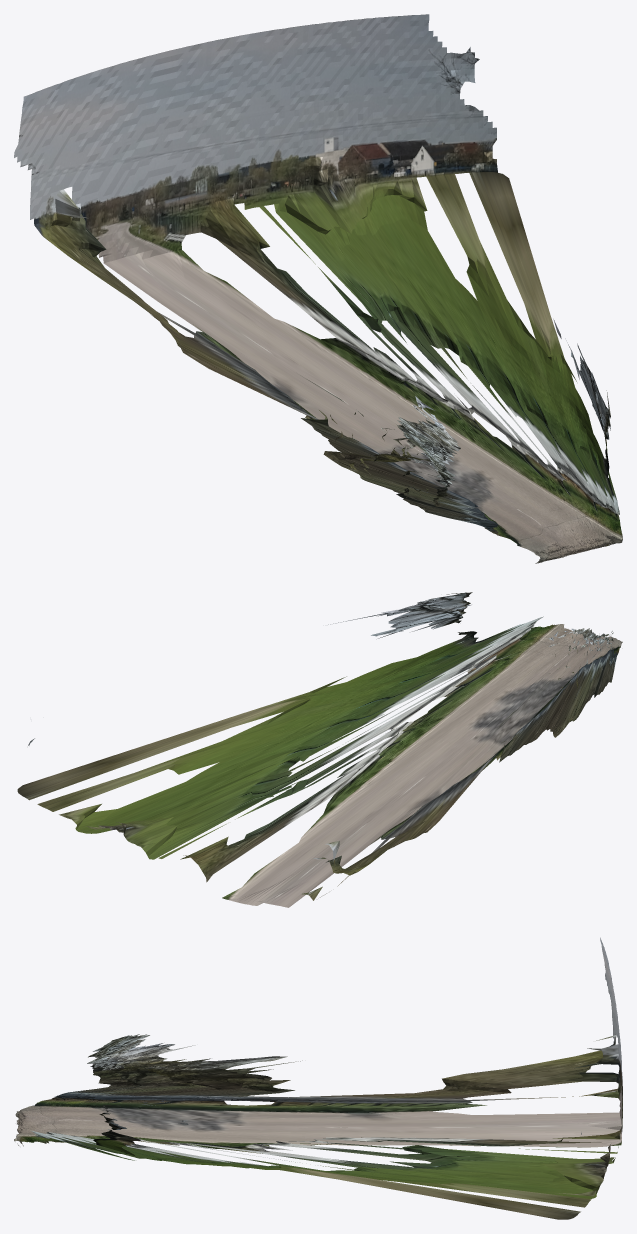
3 views of the same model, one above another, from view 1: azimuth 30°, elevation 25°; view 2: azimuth 150°, elevation 25°; view 3: azimuth 270°, elevation 25° (orthographic). The views are drawn at different scales.
Visible parts, largest first — view 1: defaultobject; view 2: defaultobject; view 3: defaultobject.
Part boxes in pixels (x1=…): defaultobject: x1=14, y1=14, x2=622, y2=563; defaultobject: x1=17, y1=592, x2=622, y2=907; defaultobject: x1=14, y1=937, x2=622, y2=1219.
Size of the model in its own units: 27.97 by 12.41 by 44.39.
Materials: 1 (1 with a texture image).
